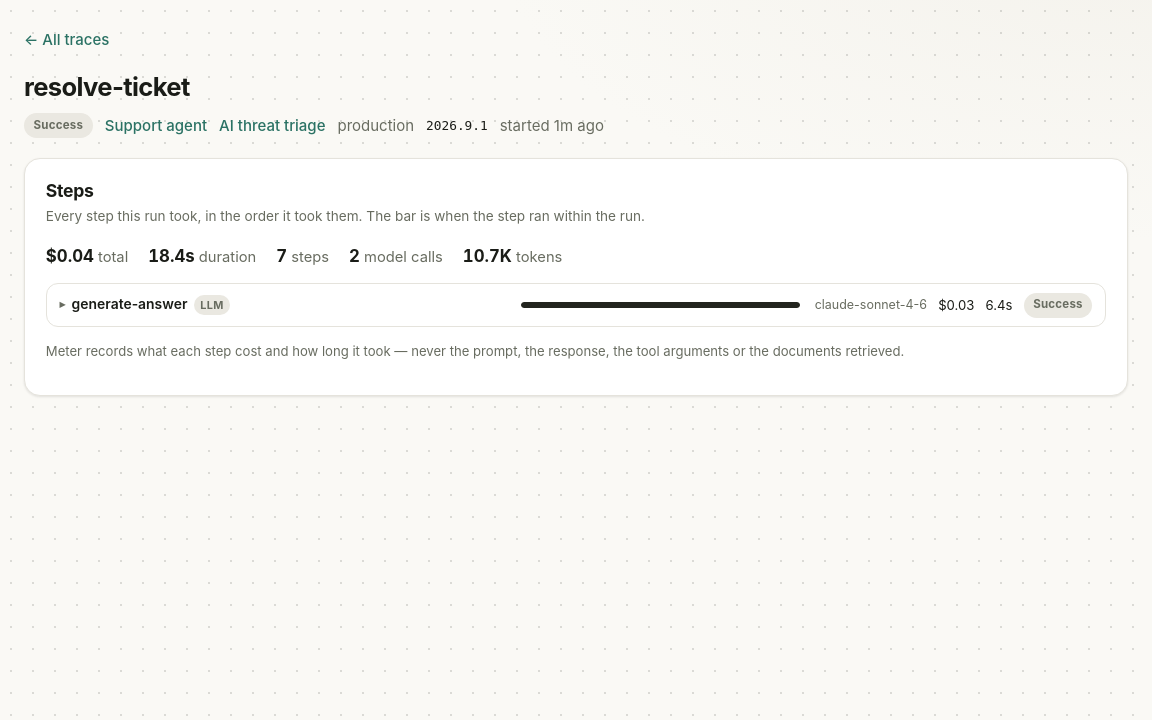
it: TraceDetail › expands a span to its token and prompt identity
Click the button.
click(576, 305)  # box [47,284,1105,326]
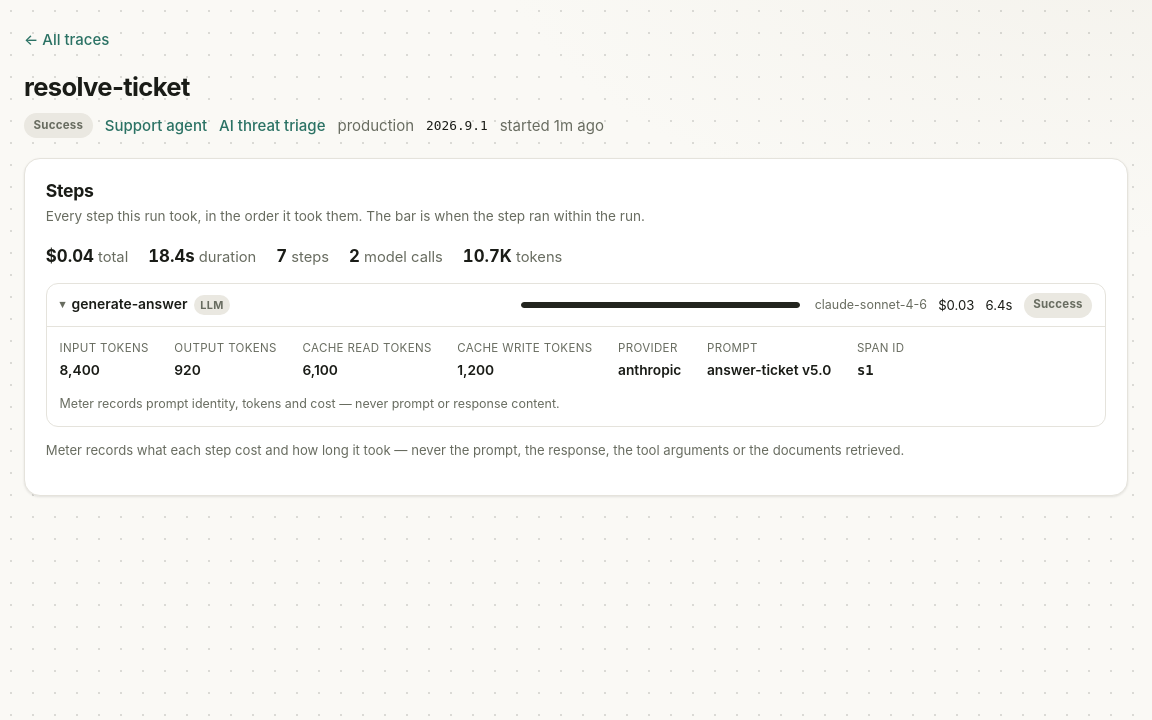
Result: the text "Input tokens" is shown at [60,340,149,358]
Result: the text "8,400" is shown at [60,362,100,378]
Result: the text "Cache read tokens" is shown at [302,340,432,358]
